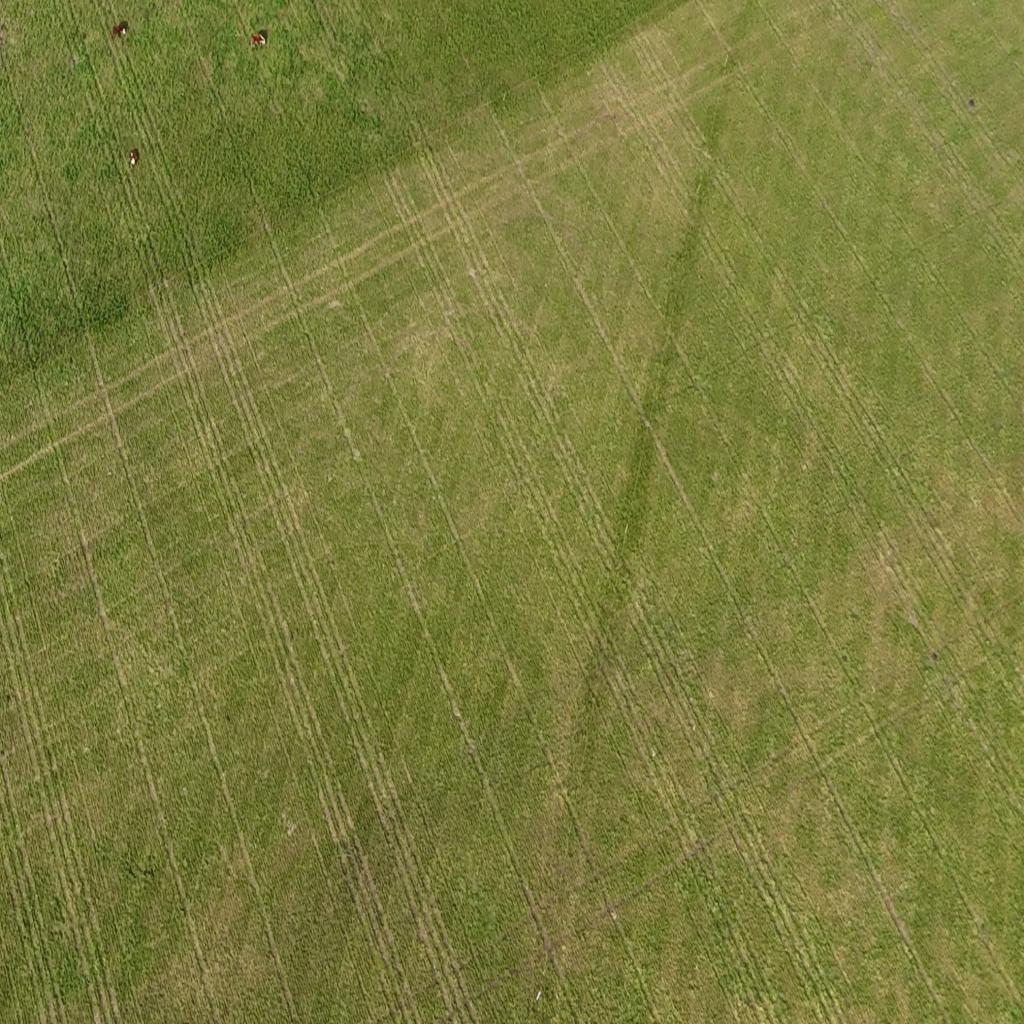cow: (250, 29, 268, 51), (113, 20, 130, 41), (130, 150, 141, 172)
